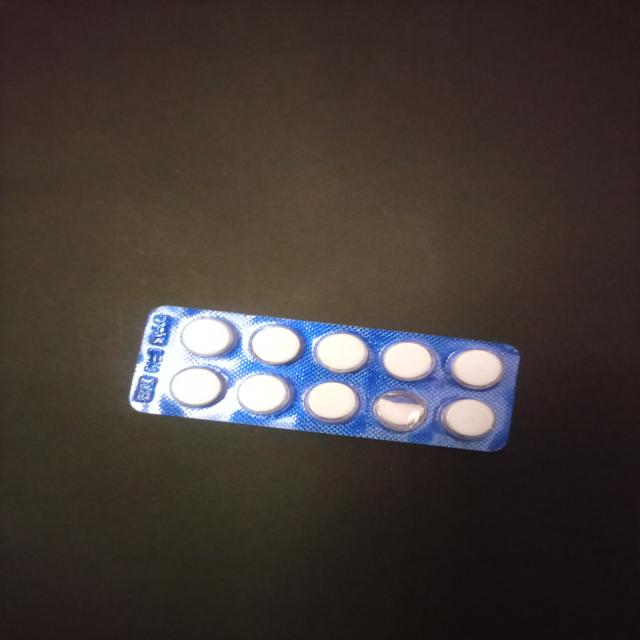defect: (370, 387, 431, 435)
